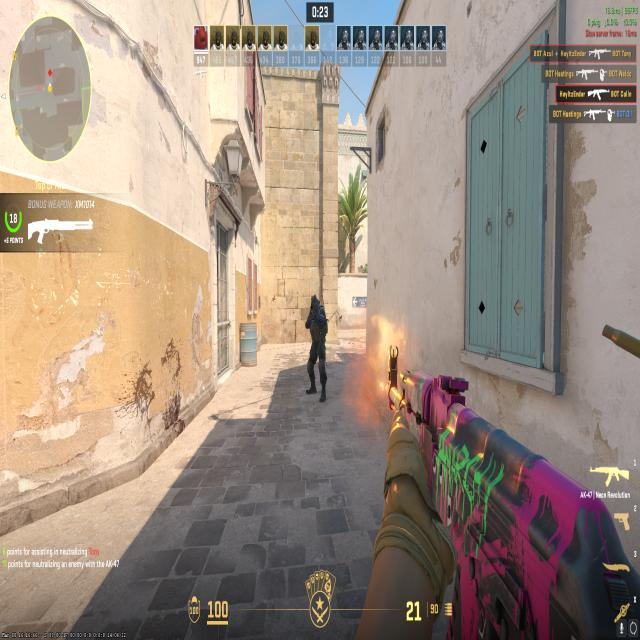ct: (303, 290, 331, 402)
